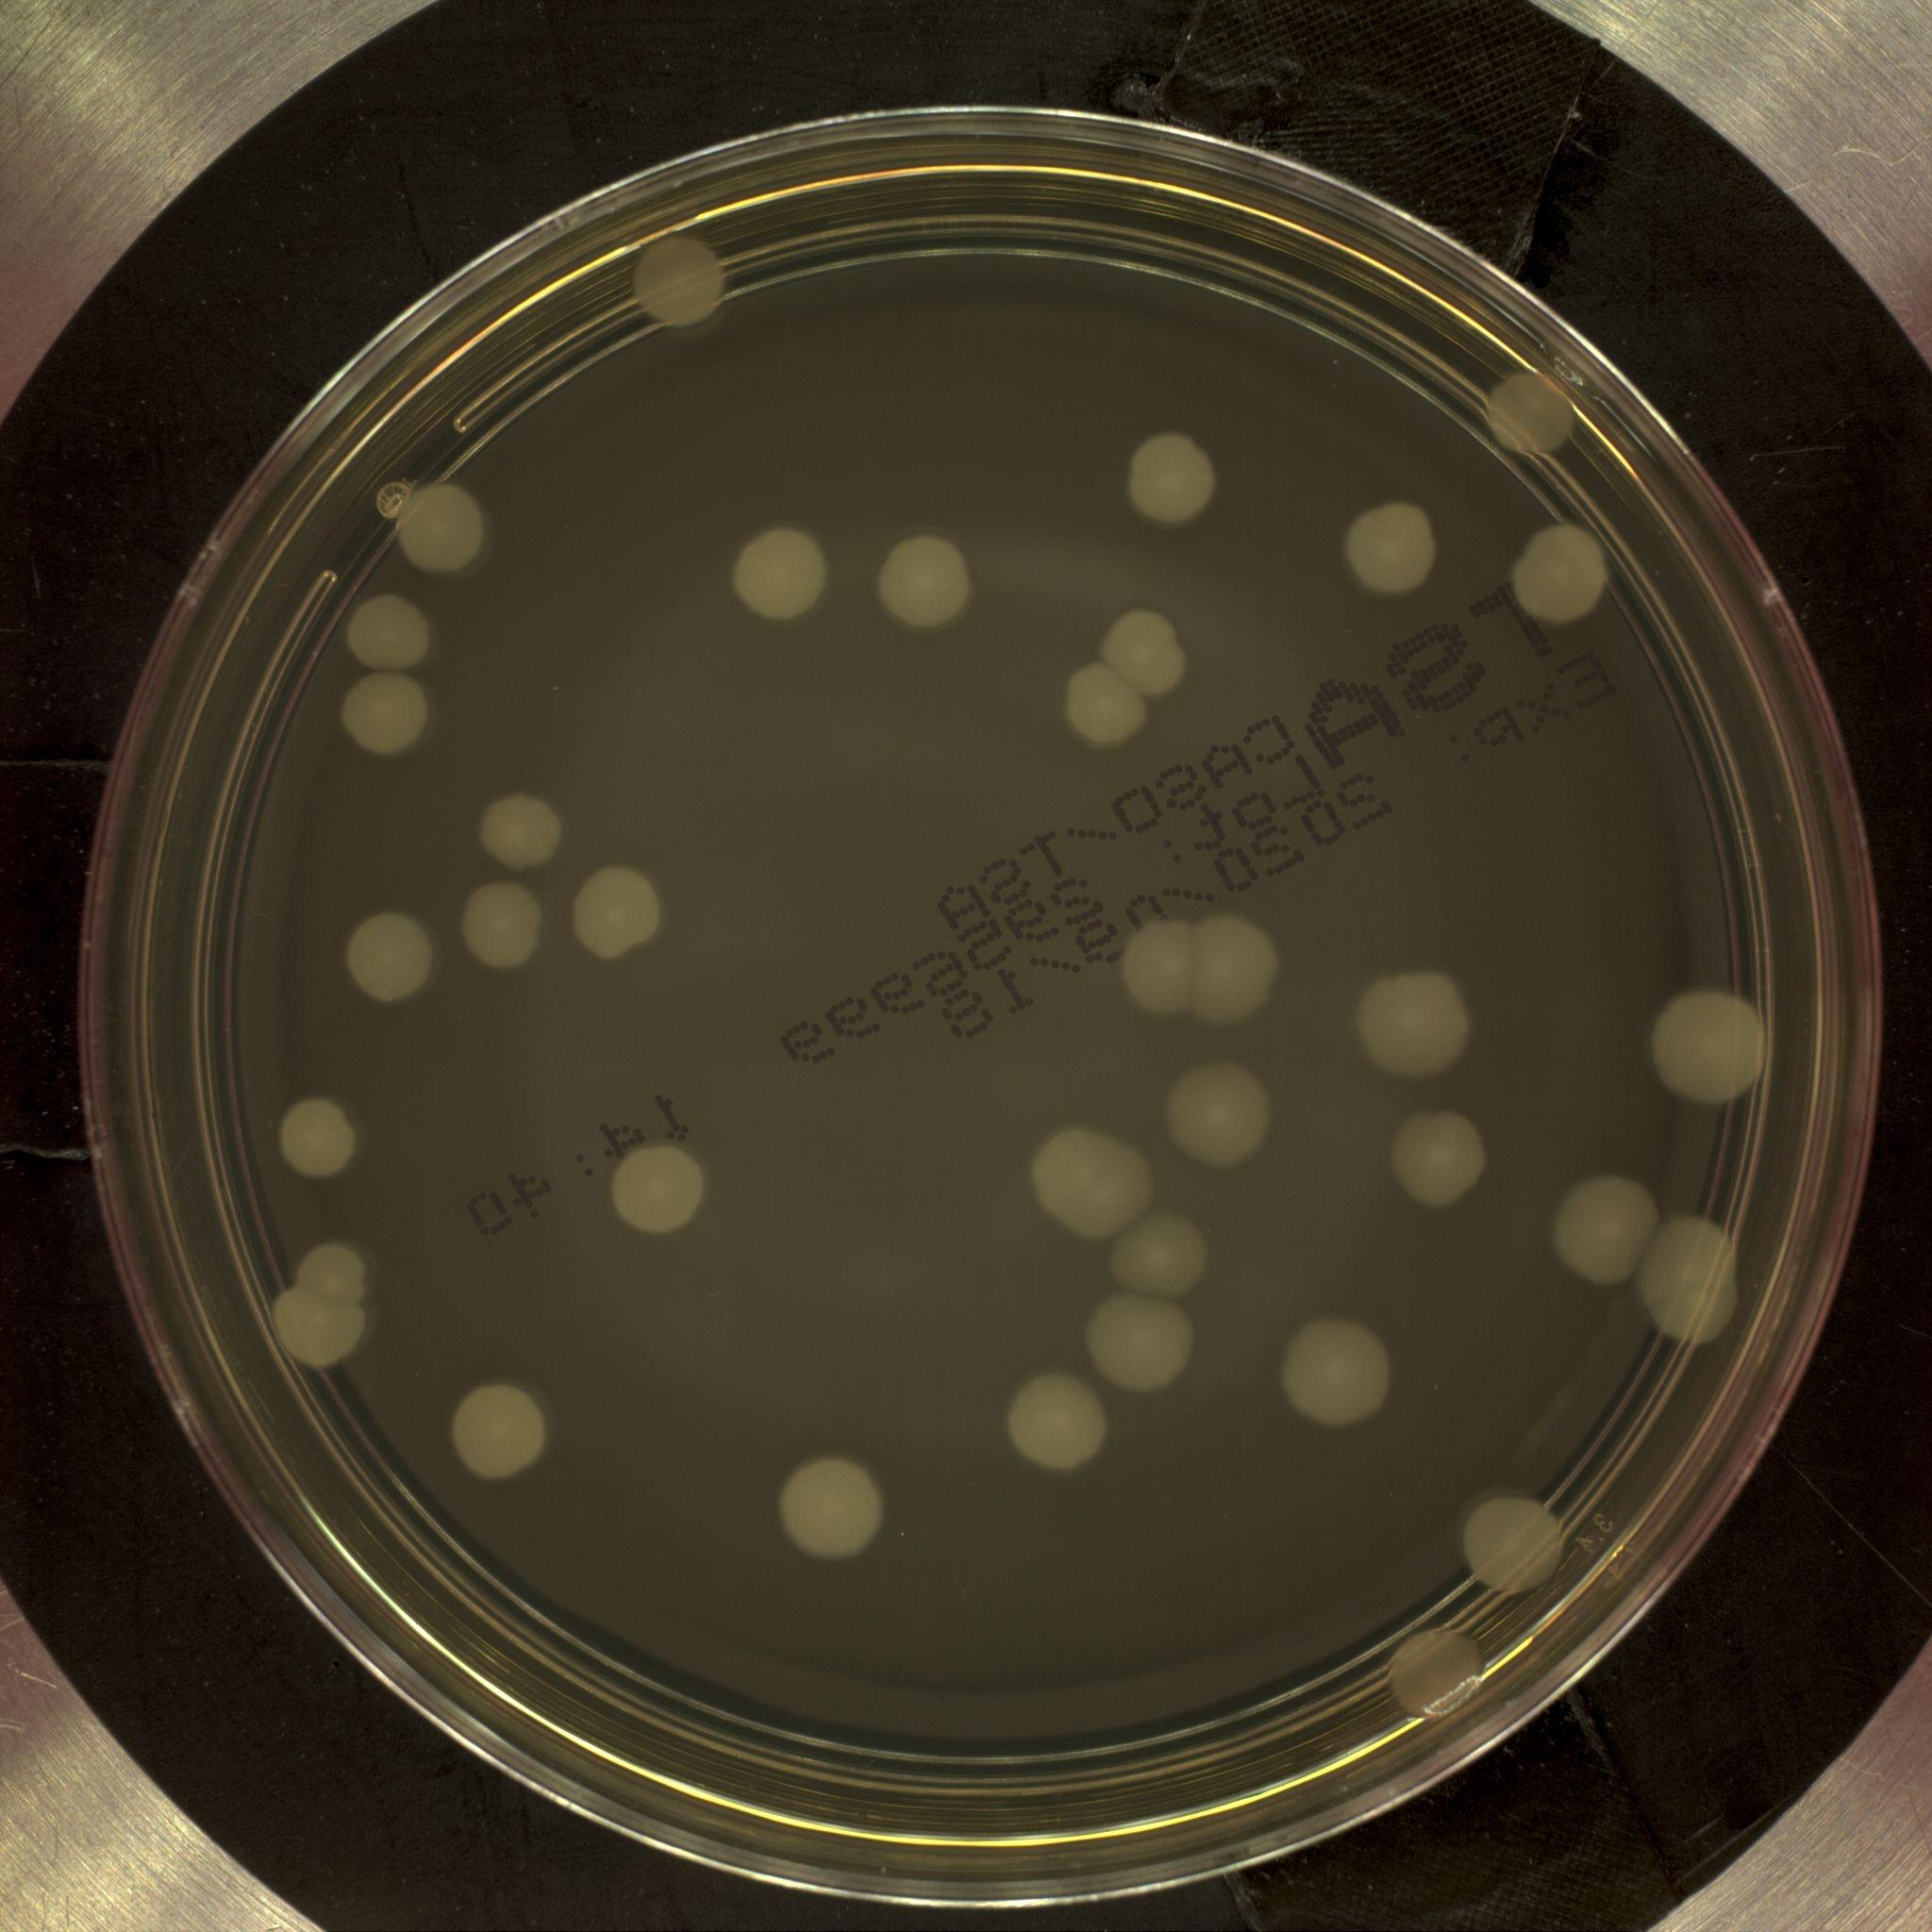e. coli: (1033, 1128, 1157, 1241), (1638, 1213, 1740, 1347), (1544, 1172, 1664, 1285), (1281, 1317, 1395, 1428), (1650, 992, 1762, 1104), (1359, 966, 1470, 1070), (1169, 1066, 1270, 1172), (1083, 1296, 1199, 1387), (1007, 1375, 1113, 1474), (1458, 1494, 1567, 1591), (780, 1457, 881, 1557), (733, 521, 834, 621), (1512, 523, 1607, 623), (1200, 913, 1284, 1026), (452, 1383, 546, 1483), (882, 534, 975, 634), (576, 864, 666, 968), (393, 479, 490, 575), (629, 234, 723, 330), (1124, 432, 1217, 528), (1114, 919, 1211, 1011), (1390, 1632, 1491, 1721), (1346, 504, 1440, 598), (1111, 1209, 1210, 1298), (1401, 1111, 1489, 1211), (275, 1283, 369, 1374), (1099, 606, 1191, 698), (612, 1145, 708, 1234), (458, 881, 546, 972), (337, 672, 435, 753), (1485, 370, 1576, 453), (348, 915, 437, 1000), (276, 1094, 361, 1181), (475, 789, 563, 870), (1069, 660, 1147, 749), (346, 592, 433, 672), (297, 1236, 376, 1309)
